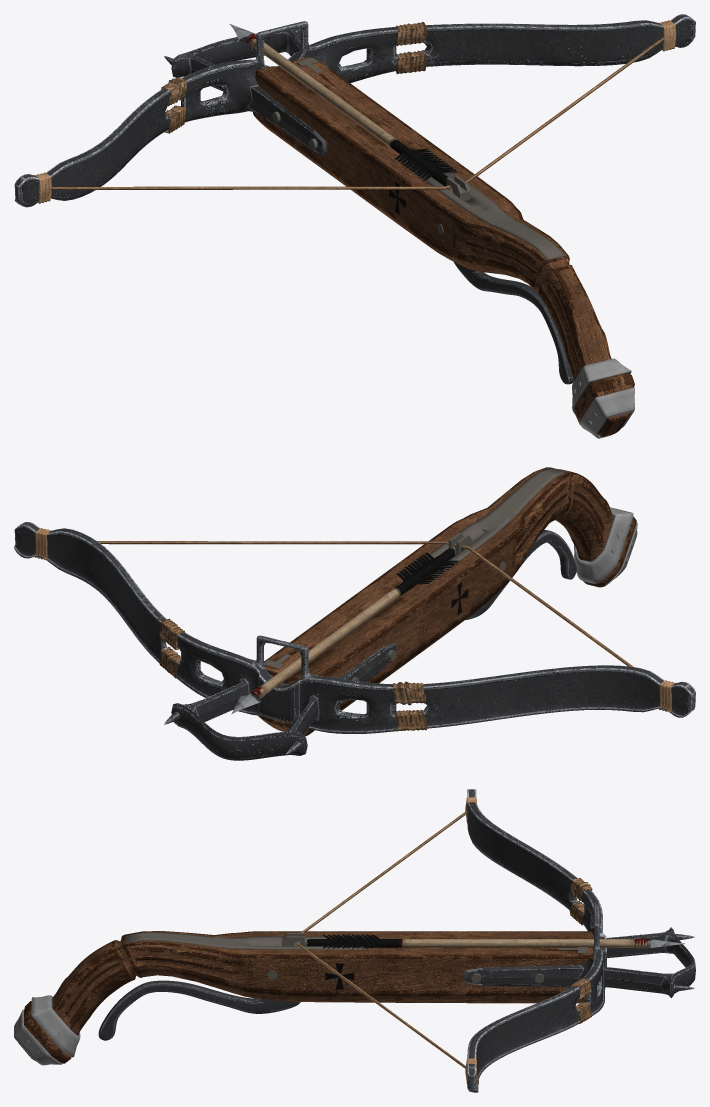
The model's file is Crossbow_parts.fbx.
The picture shows the model from 3 angles, top to bottom: view 1: azimuth 30°, elevation 25°; view 2: azimuth 150°, elevation 25°; view 3: azimuth 270°, elevation 25°; orthographic projection. The views are drawn at different scales.
Parts seen in each view (by area): view 1: crossbow, crossbow_arrow, crossbow_rope; view 2: crossbow, crossbow_arrow, crossbow_rope; view 3: crossbow, crossbow_arrow, crossbow_rope.
Part boxes in pixels (x1,y1,x2,y2): crossbow: (14,14,695,438); crossbow_arrow: (230,24,457,186); crossbow_rope: (34,20,676,203); crossbow: (14,467,695,760); crossbow_arrow: (231,548,458,713); crossbow_rope: (34,528,675,712); crossbow: (14,789,695,1092); crossbow_arrow: (307,934,684,948); crossbow_rope: (297,797,478,1084).
Size of the model in its own units: 89.88 by 21.99 by 91.05.
